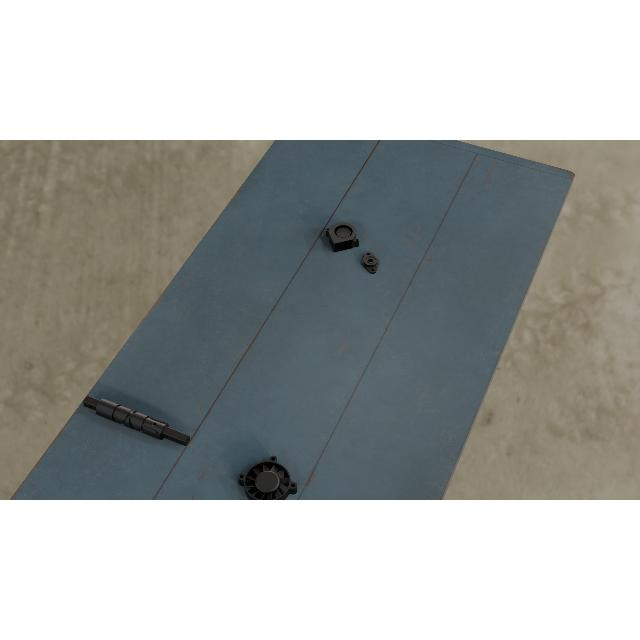Pieza1: (80, 390, 192, 452)
Pieza2: (360, 250, 382, 274)
Pieza3: (324, 219, 360, 253)
Pieza4: (236, 454, 300, 500)
